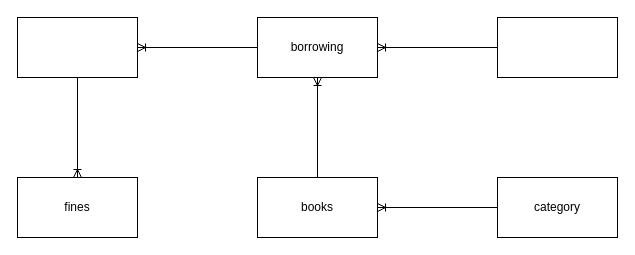
Image size: 635x255. Some labels were removed from this diagram. The box of each missing label's shape, as (x1, y1, x2, y2) in pixels:
readers: (496, 16, 618, 78)
returning: (16, 16, 138, 78)
